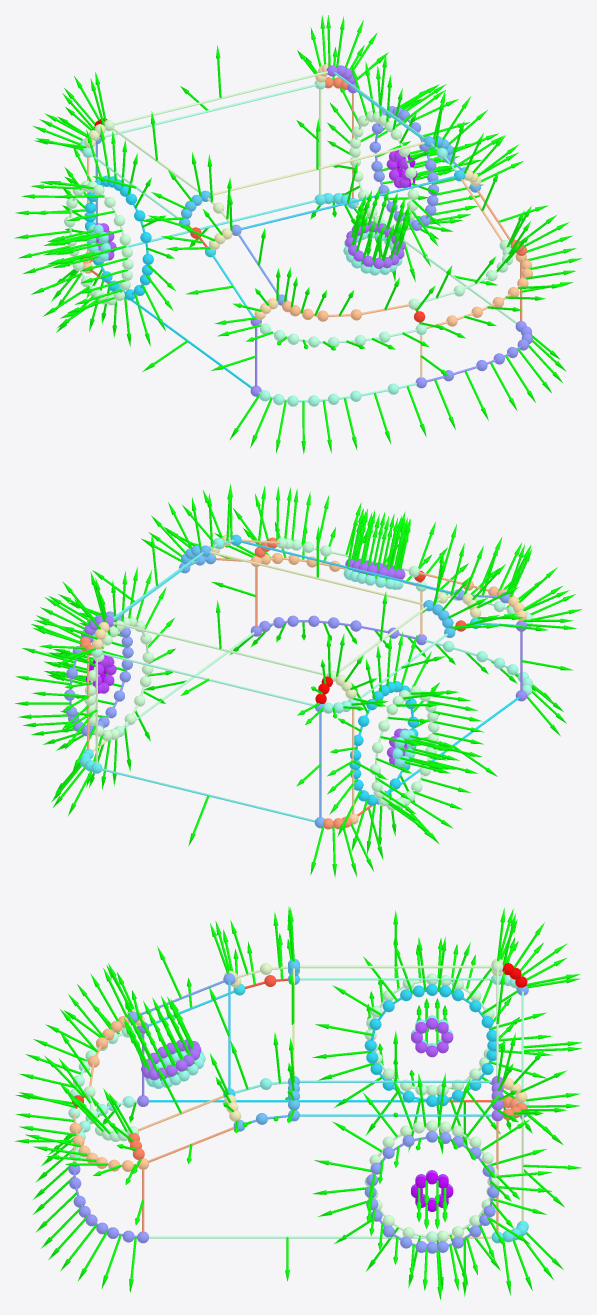
File: onshape_vacuum.gltf
3 views of the same model, one above another, from view 1: azimuth 30°, elevation 25°; view 2: azimuth 150°, elevation 25°; view 3: azimuth 270°, elevation 25° (orthographic). The views are drawn at different scales.
Size of the model in its own units: 0.8155 by 0.4633 by 0.942.
